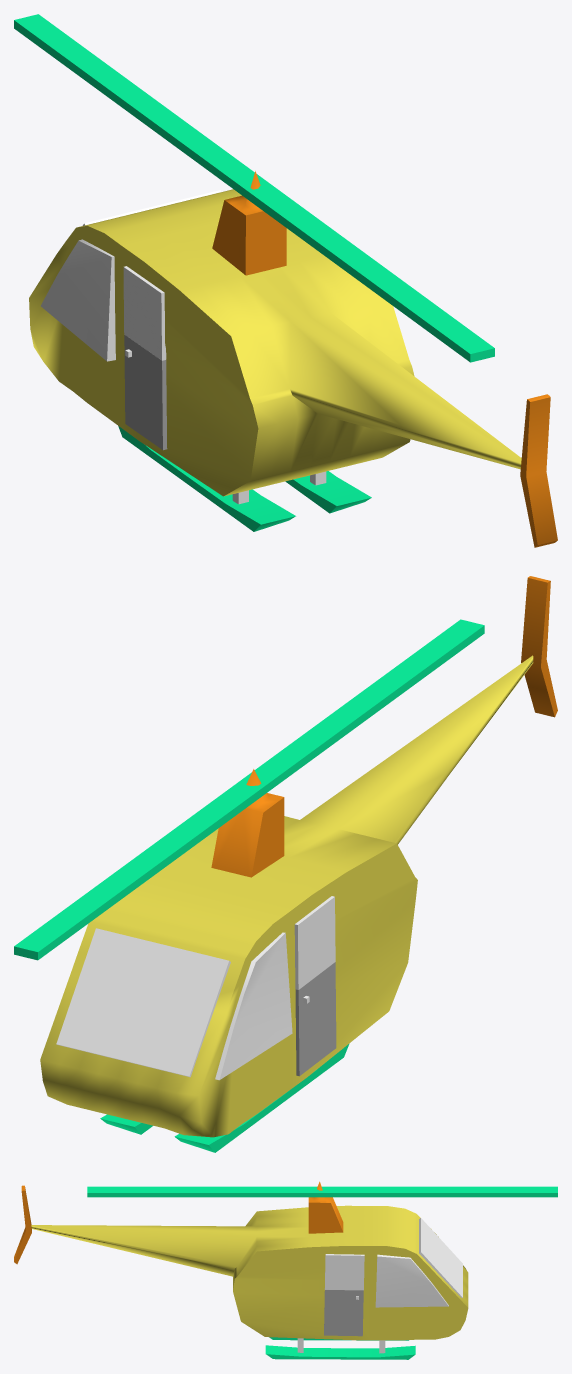
The model's file is helicopter.fbx.
3 renders of one model, top to bottom at view 1: azimuth 30°, elevation 25°; view 2: azimuth 150°, elevation 25°; view 3: azimuth 270°, elevation 25°, orthographic. The views are drawn at different scales.
Parts seen in each view (by area): view 1: Cube_1, pervane, Cube_12, Cube_2, Cube_4, Cube_14, Cube_11, Cube_9, Cube_10; view 2: Cube_1, Cube_13, pervane, Cube_12, Cube_2, Cube_14, Cube_4, Cube_11, Cube_9; view 3: Cube_1, pervane, Cube_15, Cube_10, Cube_16, Cube_13, Cube, Cube_2, Cube_4.
Boxes of the visible parts, x1=… form: Cube_1: x1=29, y1=189, x2=521, y2=496; pervane: x1=14, y1=14, x2=494, y2=362; Cube_12: x1=41, y1=239, x2=115, y2=361; Cube_2: x1=212, y1=171, x2=286, y2=275; Cube_4: x1=520, y1=394, x2=557, y2=547; Cube_14: x1=124, y1=334, x2=167, y2=450; Cube_11: x1=123, y1=266, x2=166, y2=360; Cube_9: x1=118, y1=426, x2=295, y2=531; Cube_10: x1=285, y1=471, x2=371, y2=513; Cube_1: x1=40, y1=655, x2=533, y2=1137; Cube_13: x1=56, y1=928, x2=230, y2=1077; pervane: x1=14, y1=619, x2=484, y2=960; Cube_12: x1=215, y1=932, x2=292, y2=1080; Cube_2: x1=211, y1=769, x2=284, y2=877; Cube_14: x1=295, y1=962, x2=336, y2=1076; Cube_4: x1=521, y1=576, x2=557, y2=717; Cube_11: x1=294, y1=896, x2=335, y2=989; Cube_9: x1=174, y1=1043, x2=349, y2=1152; Cube_1: x1=31, y1=1205, x2=468, y2=1340; pervane: x1=87, y1=1186, x2=557, y2=1197; Cube_15: x1=375, y1=1254, x2=448, y2=1307; Cube_10: x1=265, y1=1345, x2=415, y2=1359; Cube_16: x1=324, y1=1289, x2=363, y2=1336; Cube_13: x1=419, y1=1218, x2=462, y2=1297; Cube: x1=324, y1=1254, x2=364, y2=1290; Cube_2: x1=308, y1=1181, x2=343, y2=1233; Cube_4: x1=14, y1=1185, x2=31, y2=1264.
Size of the model in its own units: 296 by 512 by 1538.
